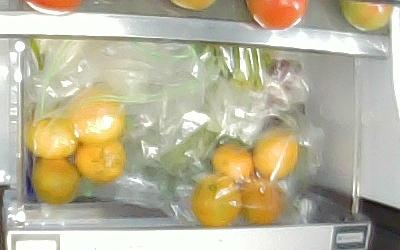tangerine_vinyl: (65, 87, 125, 143), (191, 173, 241, 228), (73, 138, 125, 183), (253, 129, 298, 179), (31, 158, 80, 203), (25, 118, 78, 158), (240, 180, 284, 225), (213, 144, 252, 182)
